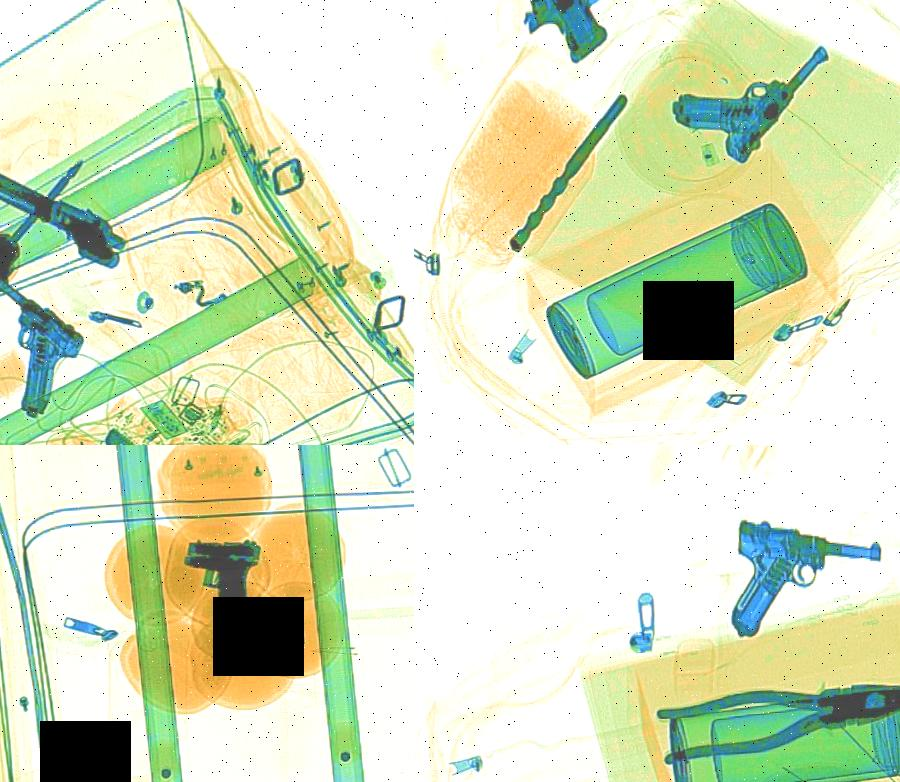Gun: (652, 0, 839, 170), (708, 508, 890, 662), (0, 142, 146, 281), (0, 263, 117, 423), (498, 0, 711, 71), (174, 532, 265, 636)
Pliers: (650, 661, 900, 767)
